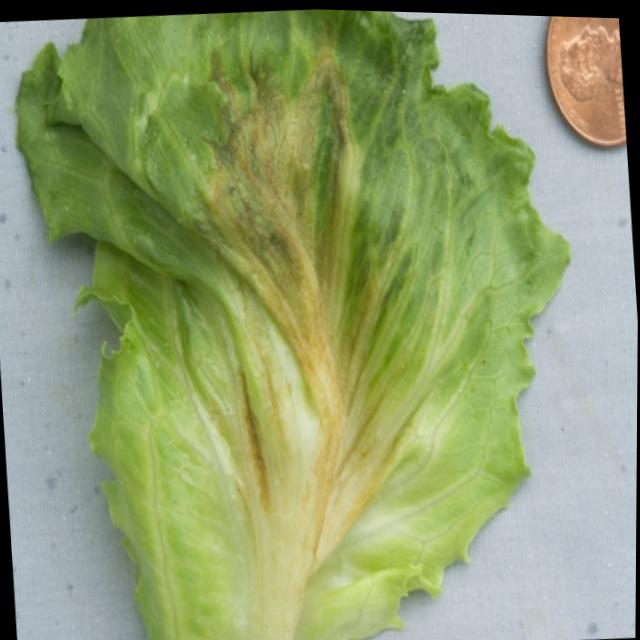Bad: (17, 9, 569, 640)
